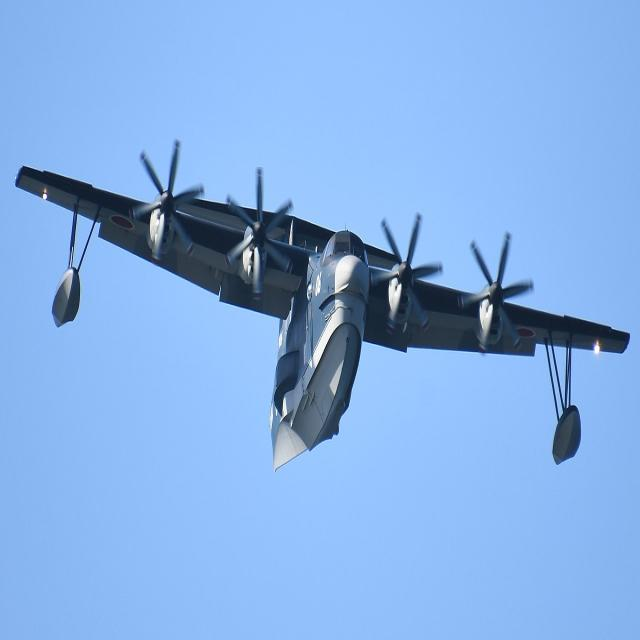MIL_Plane: (12, 137, 630, 473)
